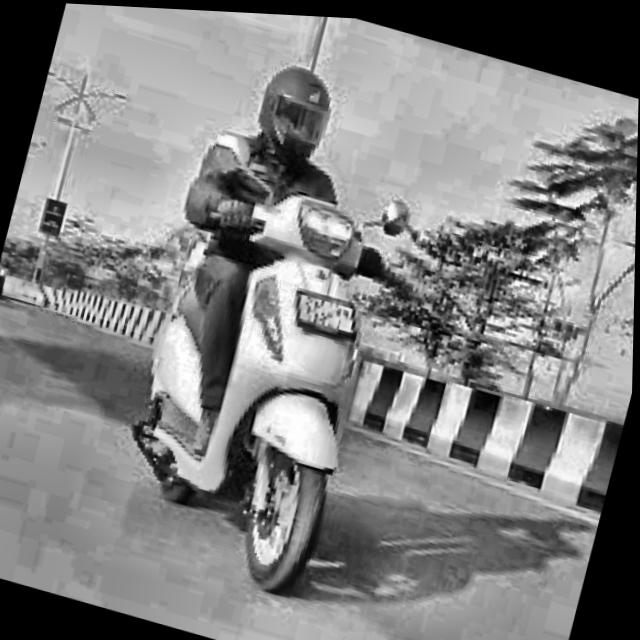motorcycle: (85, 128, 449, 618)
